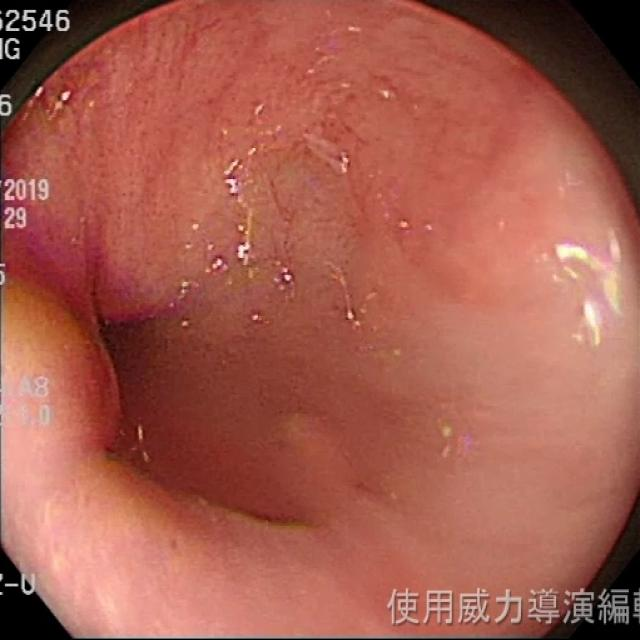S: (388, 588, 640, 629), (3, 8, 73, 35), (3, 375, 53, 402), (2, 179, 51, 204), (2, 403, 51, 428), (3, 572, 38, 599), (2, 204, 29, 231), (3, 36, 23, 63), (2, 95, 14, 118)
U: (554, 232, 628, 352), (225, 149, 257, 266), (28, 83, 75, 119), (203, 245, 230, 279), (274, 262, 298, 300)
